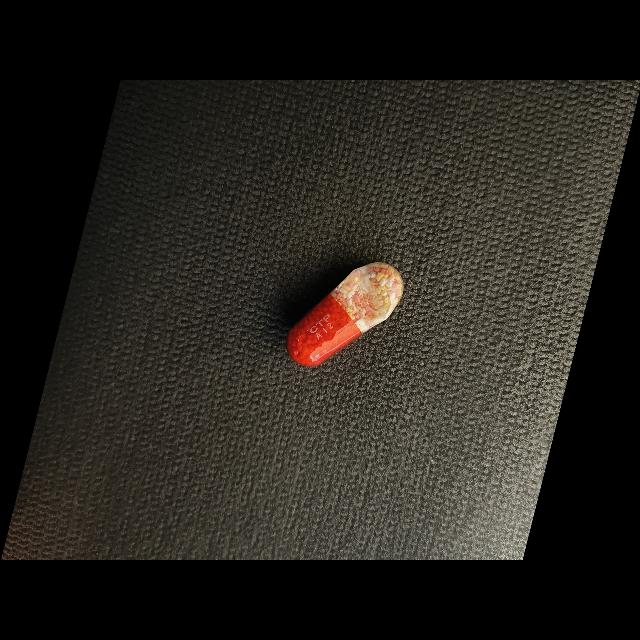Defective Capsule: (287, 262, 404, 366)
